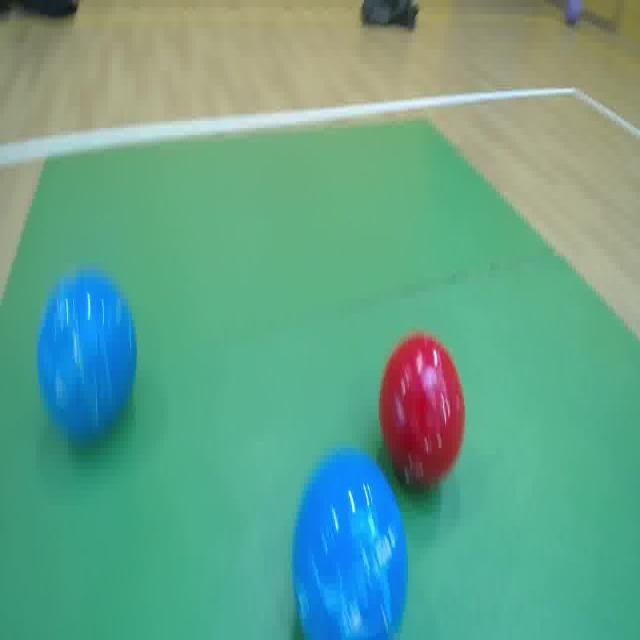blue_ball: (292, 441, 408, 640), (33, 266, 139, 449)
red_ball: (378, 329, 468, 491)
